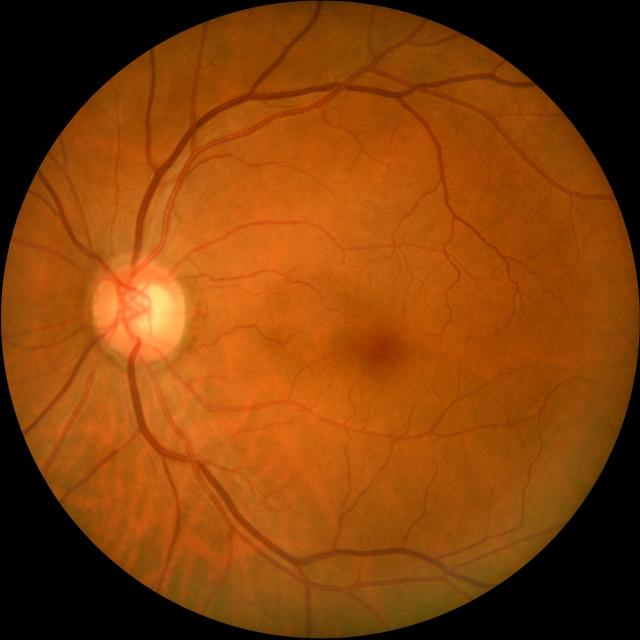OC: (121, 279, 170, 338)
OD: (91, 257, 187, 361)
